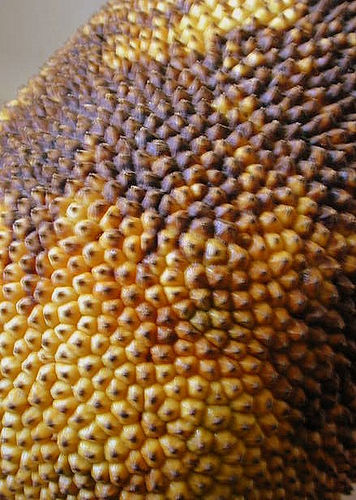jackfruit: (3, 0, 354, 498)
